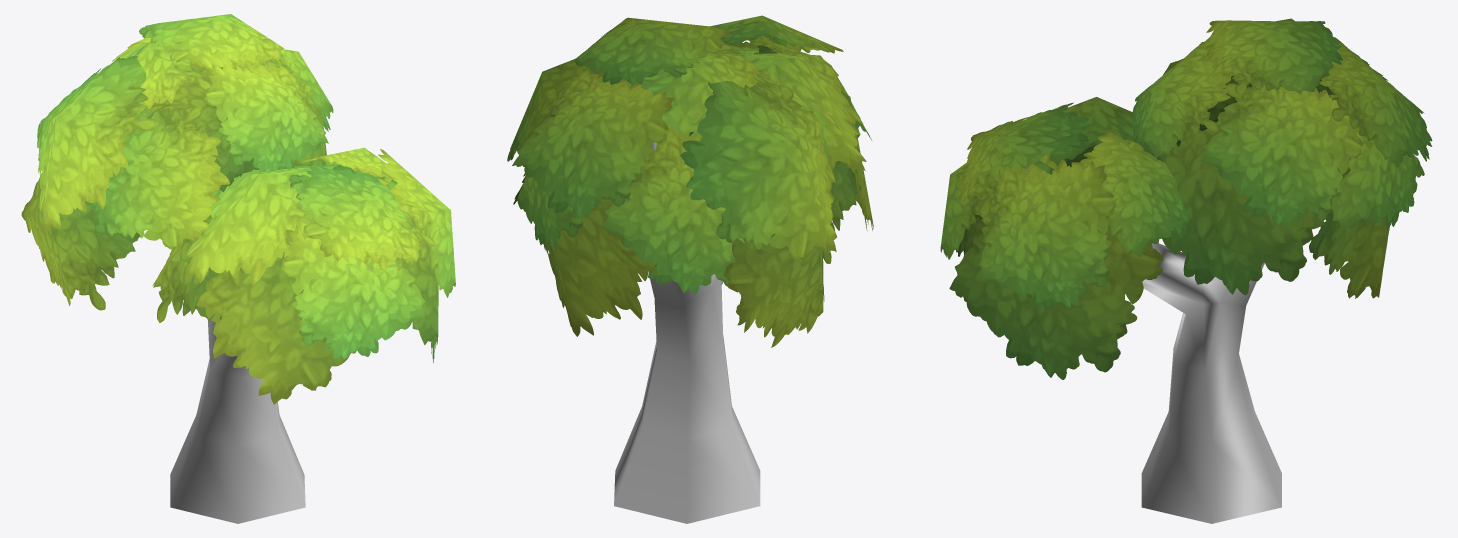
File: nomal_tree.fbx
3 renders of one model, left to right at view 1: azimuth 30°, elevation 25°; view 2: azimuth 150°, elevation 25°; view 3: azimuth 270°, elevation 25°, orthographic. The views are drawn at different scales.
Parts seen in each view (by area): view 1: leaf, tree; view 2: leaf, tree; view 3: leaf, tree.
Part boxes in pixels (x1,y1,x2,y2): leaf: (21,14,455,404); tree: (170,316,305,523); leaf: (507,15,873,347); tree: (614,142,760,523); leaf: (940,18,1432,379); tree: (1141,243,1281,523).
Size of the model in its own units: 356 by 467 by 479.
